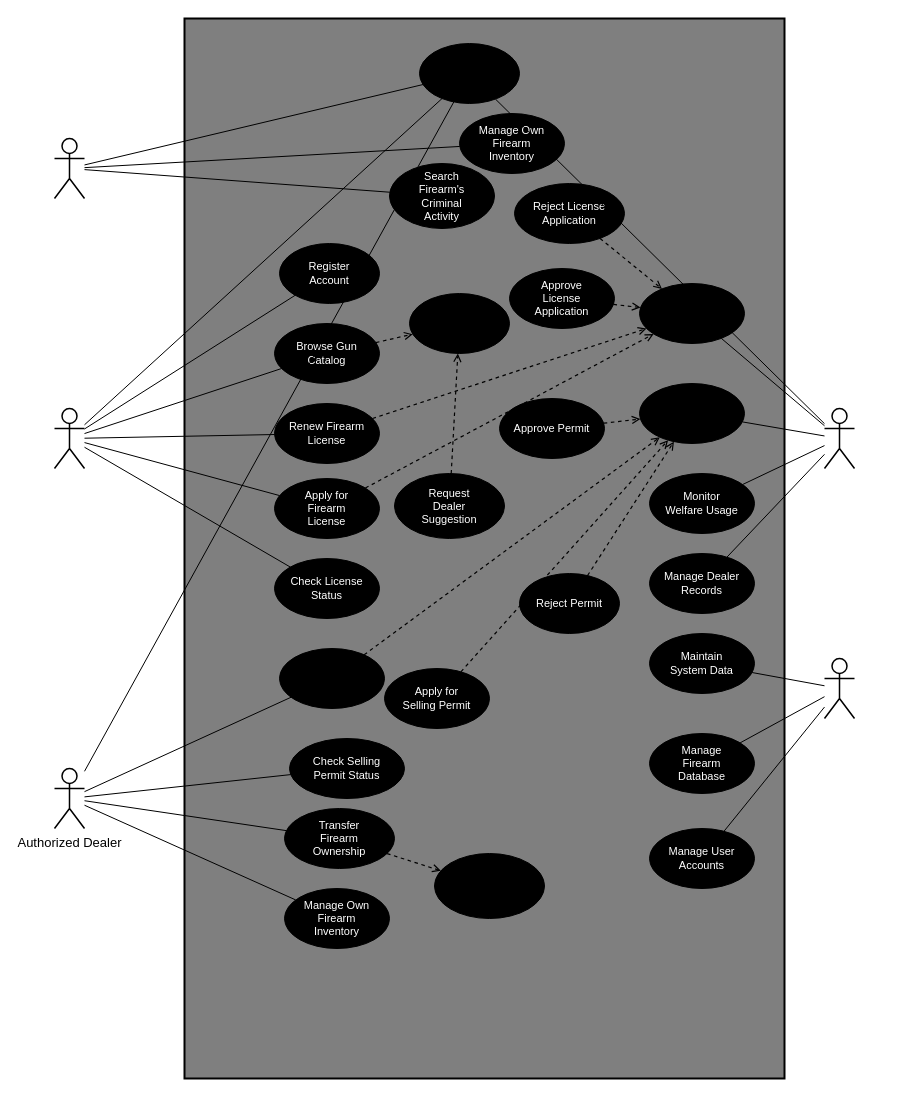
Some shapes in this 905 by 1096 pixel diagram are drawn without their labels. Each missing label, with the box of its shape:
Authorized User: (53, 137, 85, 199)
Customer: (53, 407, 85, 469)
Govt Authority: (823, 407, 855, 469)
Login: (418, 42, 520, 104)
Renew Selling Permit: (278, 648, 384, 708)
Review License Application: (638, 282, 744, 344)
Review Permit Application: (638, 382, 744, 444)
System manager: (823, 657, 855, 719)
Update Firearm Sales Information: (434, 852, 544, 918)
View Gun Details: (408, 292, 510, 354)
